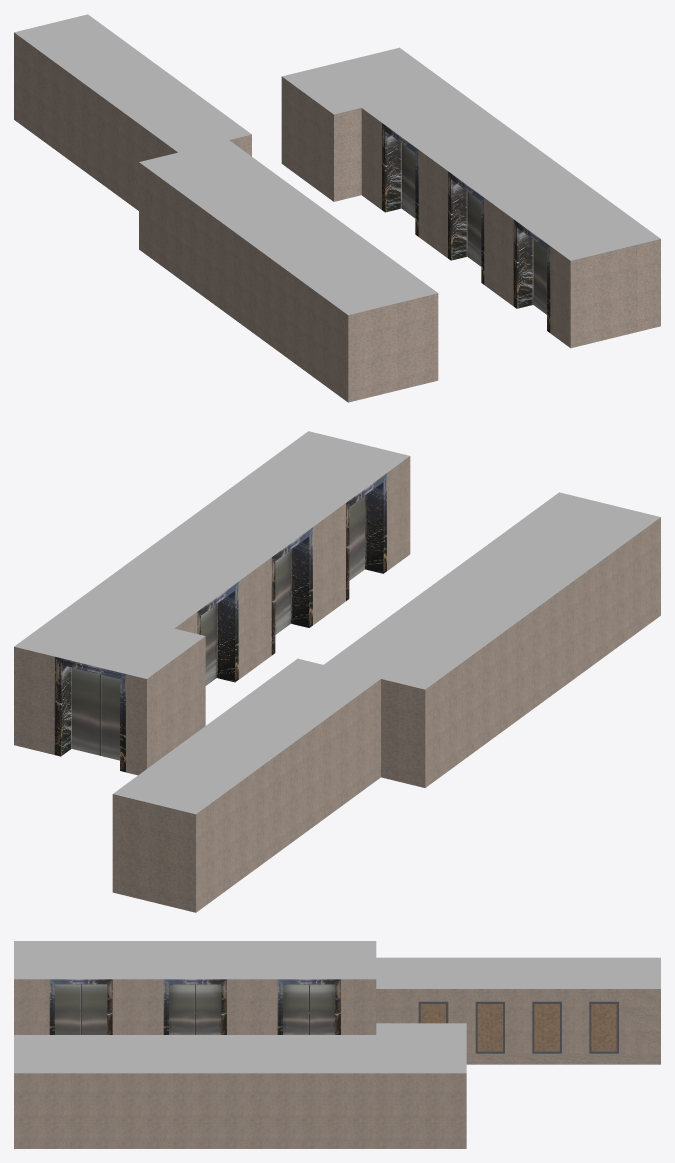
The model's file is stairs 1.glb.
3 renders of one model, top to bottom at view 1: azimuth 30°, elevation 25°; view 2: azimuth 150°, elevation 25°; view 3: azimuth 270°, elevation 25°, orthographic. The views are drawn at different scales.
Visible parts, largest first — view 1: 电梯, 电梯.001, 立方体, 电梯.002; view 2: 电梯, 电梯.001, 立方体, 电梯.002; view 3: 电梯.001, 电梯, 立方体, 电梯.002.
Boxes of the visible parts, x1,y1,x2,y2 form: 电梯: (139,140,438,402); 电梯.001: (361,86,660,348); 立方体: (14,14,251,210); 电梯.002: (281,47,451,201); 电梯: (324,492,660,787); 电梯.001: (73,431,410,685); 立方体: (112,658,380,912); 电梯.002: (14,604,205,775); 电梯.001: (14,1035,376,1148); 电梯: (14,941,376,1034); 立方体: (376,957,660,1064); 电梯.002: (376,1023,466,1148).
Size of the model in its own units: 3.78 by 1.01 by 7.82.
6 materials, 4 textured.
